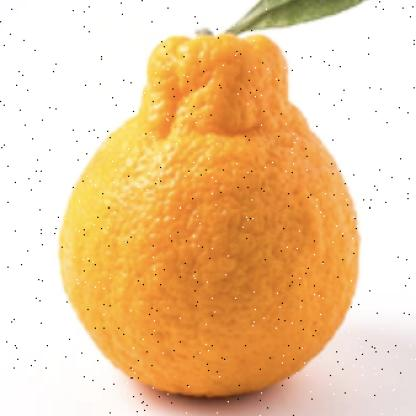fresh: (59, 28, 361, 398)
